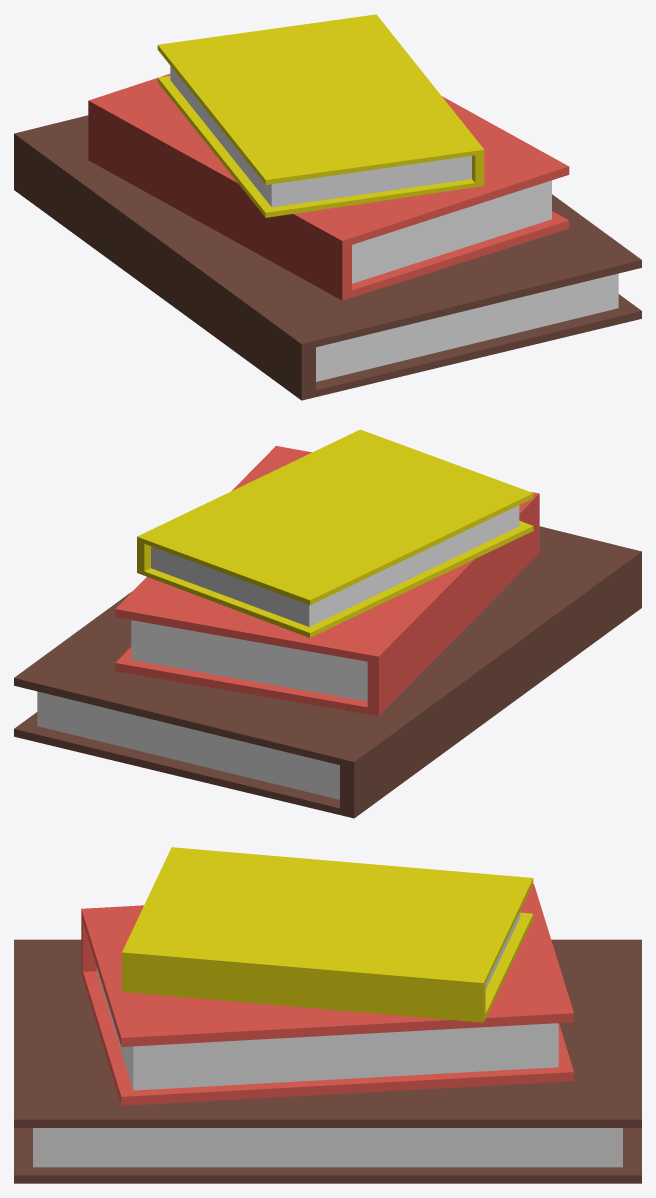
The model's file is Livros.fbx.
3 renders of one model, top to bottom at view 1: azimuth 30°, elevation 25°; view 2: azimuth 150°, elevation 25°; view 3: azimuth 270°, elevation 25°, orthographic. The views are drawn at different scales.
Visible parts, largest first — view 1: Cubo.017; view 2: Cubo.017; view 3: Cubo.017.
Part boxes in pixels (x1,y1,x2,y2): Cubo.017: (14, 14, 641, 400); Cubo.017: (14, 429, 641, 818); Cubo.017: (14, 847, 641, 1183).
Bounding box in the file's own units: 41.18 × 18.5 × 60.31.
